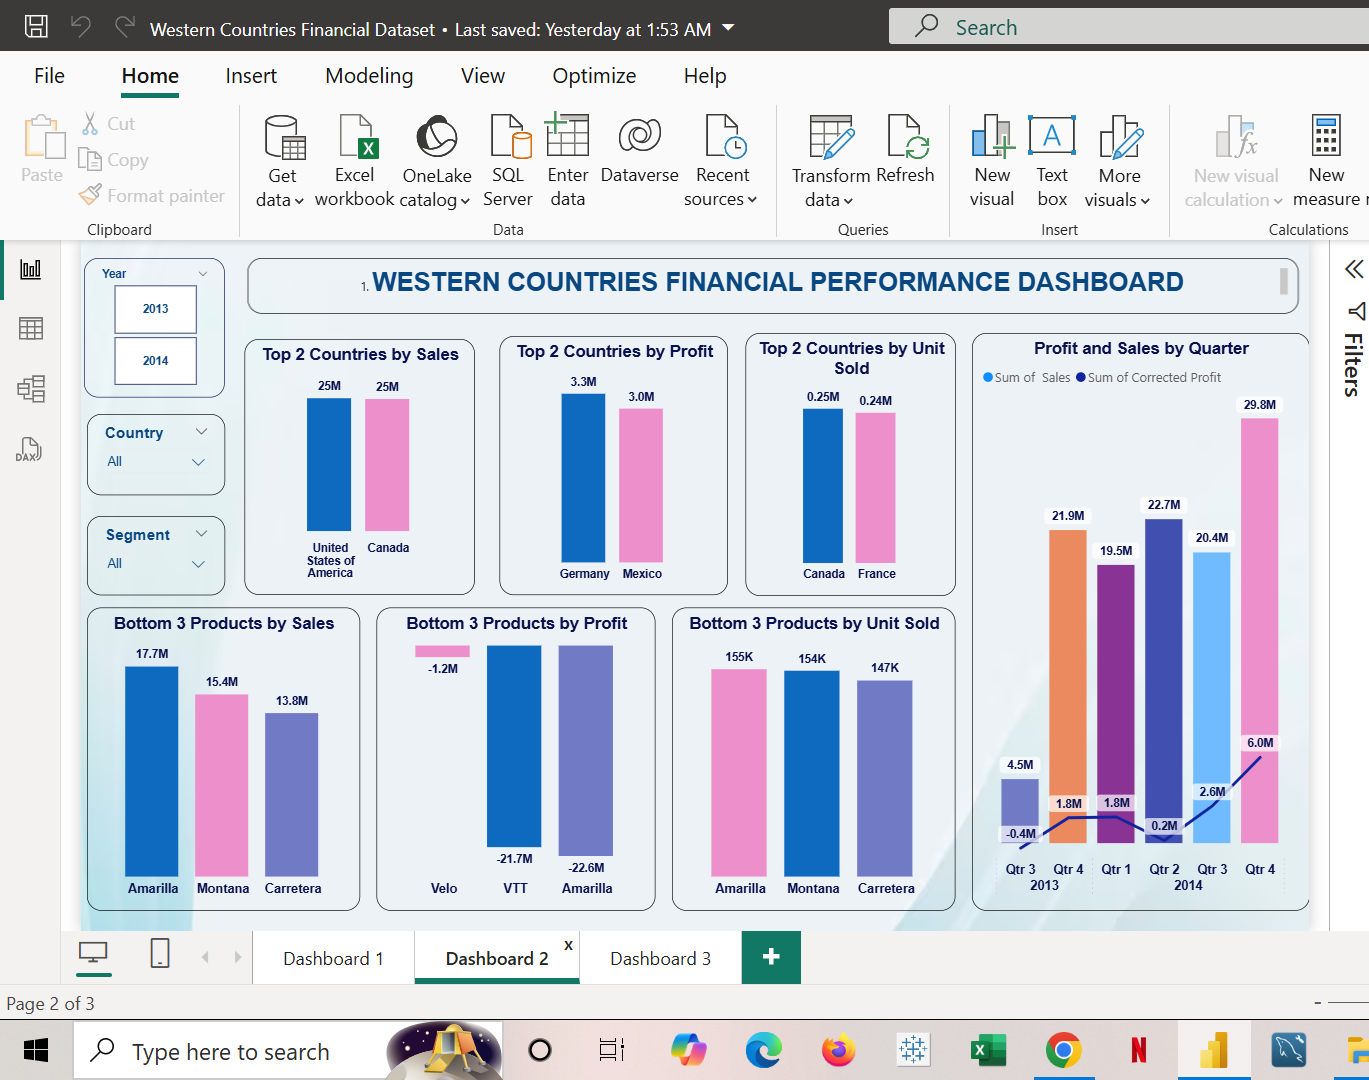

What the dashboard file says about the page in this screenshot:
{"tool":"powerbi","page":{"name":"Dashboard 2","canvas":[1280,720],"ordinal":1},"visuals":[{"type":"columnChart","title":"Top 2 Countries by Sales","fields":{"Category":["Sheet1.Country"],"Y":["Sum(Sheet1. Sales)"]},"box":[170.1,103.9,240,266.5],"z":0},{"type":"clusteredColumnChart","title":"Bottom 3 Products by Sales","fields":{"Y":["Sum(Sheet1. Sales)"],"Category":["Sheet1.Product"]},"box":[6.3,382.9,284.5,315.7],"z":1000},{"type":"lineClusteredColumnComboChart","title":"Profit and Sales by Quarter","fields":{"Y":["Sum(Sheet1. Sales)"],"Y2":["Sum(Sheet1.Corrected Profit)"],"Category":["Sheet1.Date.Variation.Date Hierarchy.Year","Sheet1.Date.Variation.Date Hierarchy.Quarter"]},"box":[928.4,96.9,351.7,601.8],"z":2000},{"type":"columnChart","title":"Top 2 Countries by Profit","fields":{"Category":["Sheet1.Country"],"Y":["Sum(Sheet1.Corrected Profit)"]},"box":[436.5,100.2,238.1,270.2],"z":3000},{"type":"columnChart","title":"Top 2 Countries by Unit Sold","fields":{"Category":["Sheet1.Country"],"Y":["Sum(Sheet1.Units_Sold)"]},"box":[691.7,96.4,219.2,274],"z":4000},{"type":"slicer","fields":{"Values":["Sheet1.Date.Variation.Date Hierarchy.Year"]},"box":[3.1,18.8,146.9,145.4],"z":5000},{"type":"slicer","fields":{"Values":["Sheet1.Country"]},"box":[6.3,181.3,143.8,84.4],"z":6000},{"type":"slicer","fields":{"Values":["Sheet1.Segment"]},"box":[6.3,287.6,143.8,82.8],"z":7000},{"type":"clusteredColumnChart","title":"Bottom 3 Products by Profit","fields":{"Category":["Sheet1.Product"],"Y":["Sum(Sheet1.Corrected Profit)"]},"box":[307.9,382.9,290.7,315.7],"z":8000},{"type":"textbox","box":[173.5,18.8,1095.7,57.8],"z":9000},{"type":"clusteredColumnChart","title":"Bottom 3 Products by Unit Sold","fields":{"Category":["Sheet1.Product"],"Y":["Sum(Sheet1.Units_Sold)"]},"box":[615.8,382.9,295.4,315.7],"z":10000}]}

Visuals, with their boxes on the page's 1280x720 design canvas (x1, y1, x2, y2). These are canvas units, not pixel positions in the 1369x1080 screenshot, which may show the page scaled, cropped or inside an application window:
"Top 2 Countries by Sales" columnChart: x1=170, y1=104, x2=410, y2=370
"Bottom 3 Products by Sales" clusteredColumnChart: x1=6, y1=383, x2=291, y2=699
"Profit and Sales by Quarter" lineClusteredColumnComboChart: x1=928, y1=97, x2=1280, y2=699
"Top 2 Countries by Profit" columnChart: x1=436, y1=100, x2=675, y2=370
"Top 2 Countries by Unit Sold" columnChart: x1=692, y1=96, x2=911, y2=370
slicer - Sheet1.Date.Variation.Date Hierarchy.Year: x1=3, y1=19, x2=150, y2=164
slicer - Sheet1.Country: x1=6, y1=181, x2=150, y2=266
slicer - Sheet1.Segment: x1=6, y1=288, x2=150, y2=370
"Bottom 3 Products by Profit" clusteredColumnChart: x1=308, y1=383, x2=599, y2=699
textbox: x1=174, y1=19, x2=1269, y2=77
"Bottom 3 Products by Unit Sold" clusteredColumnChart: x1=616, y1=383, x2=911, y2=699
